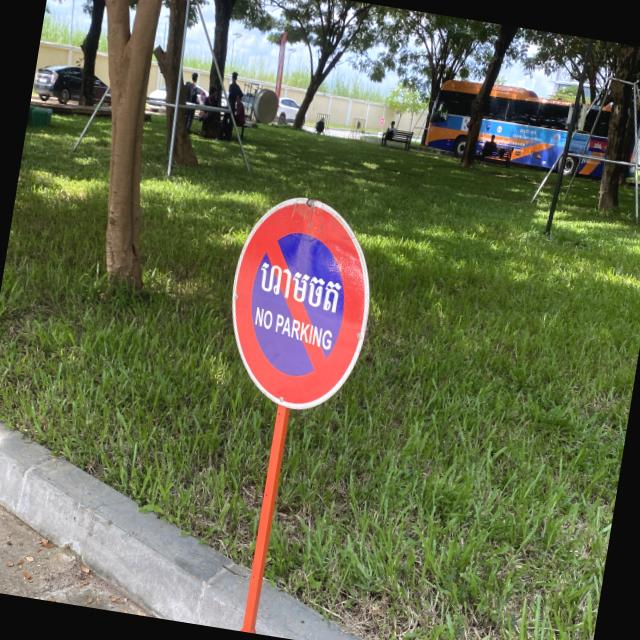Yolov11kh: (254, 258, 353, 324)
